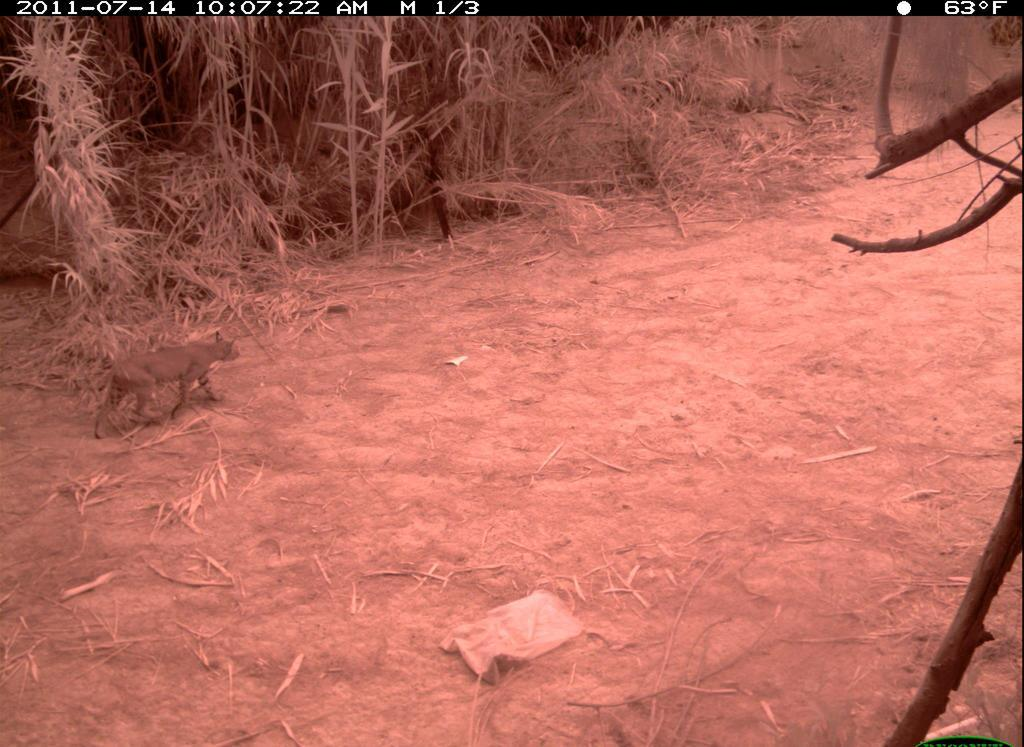bobcat: (77, 327, 251, 451)
